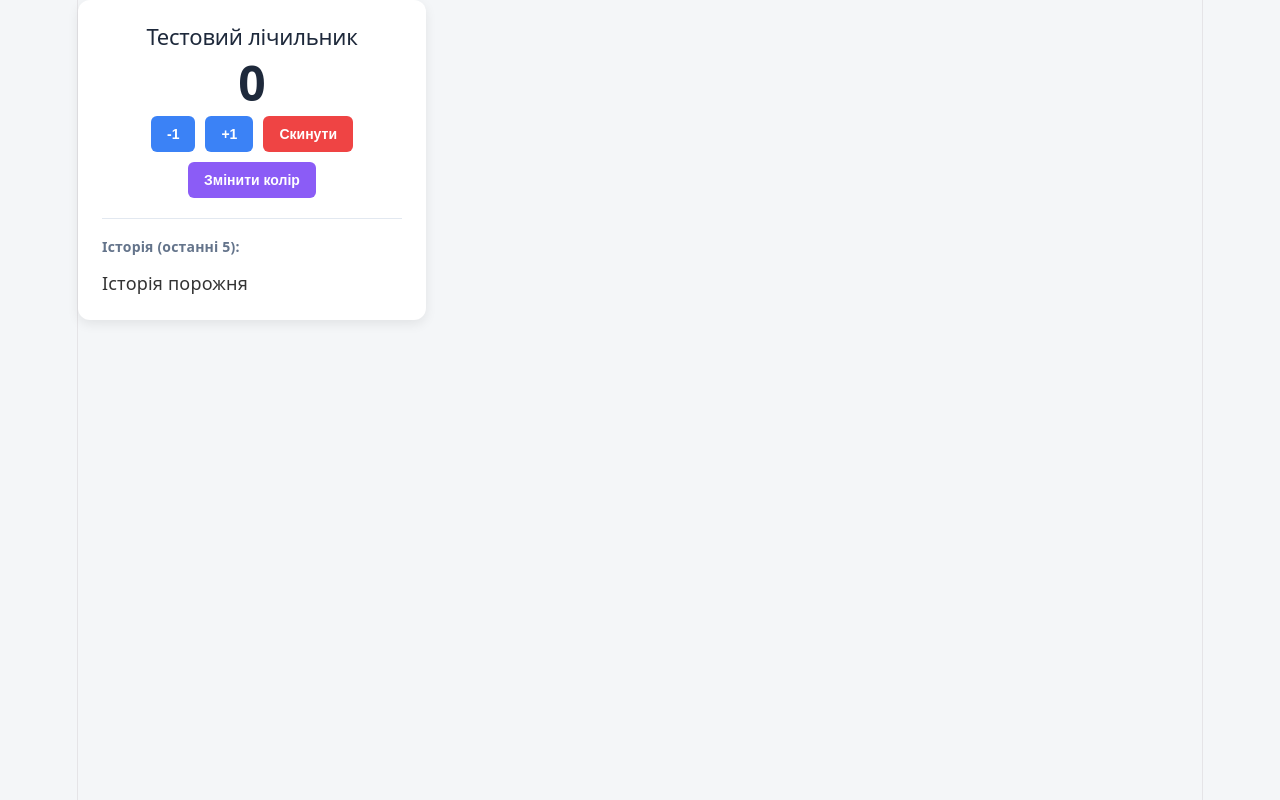
Counter Component › збільшення та зменшення значення лічильника
Click the button "+1": coordinates (229, 134) x1=205 y1=116 x2=253 y2=152
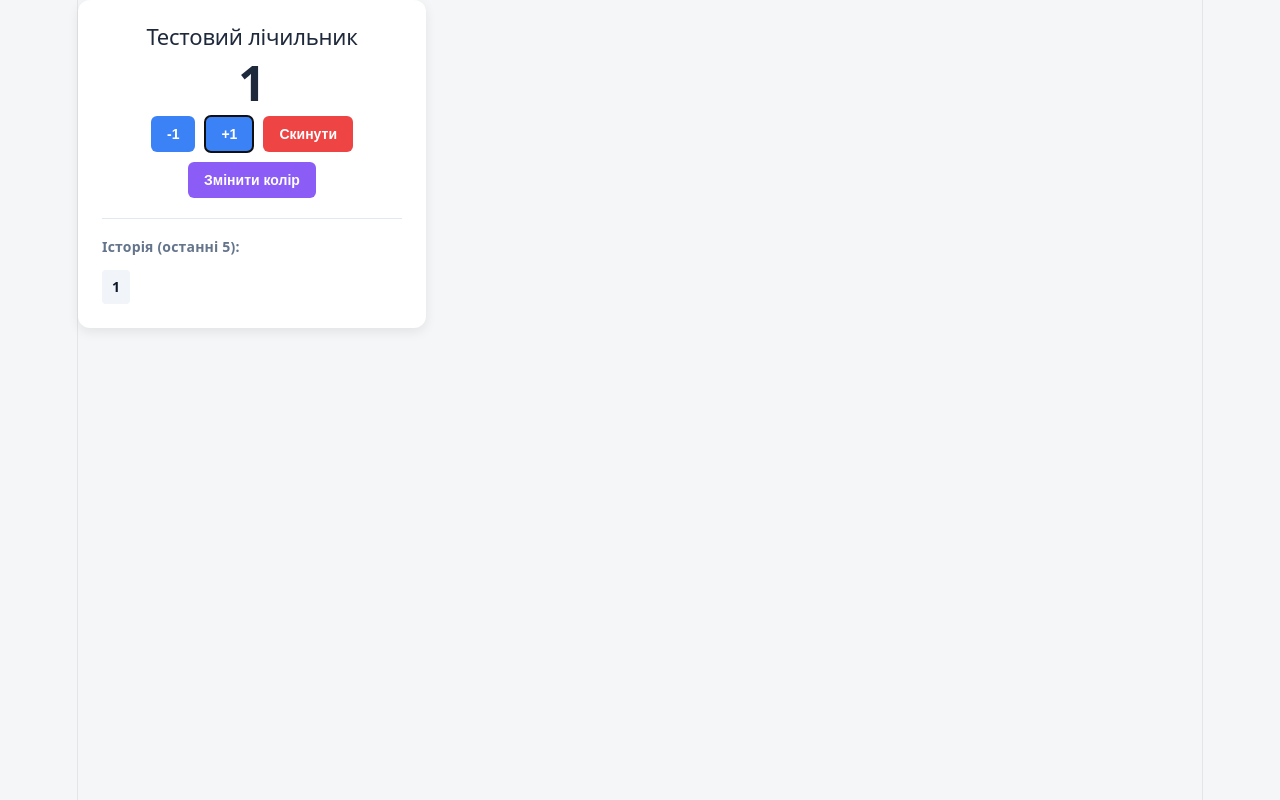
Expected: the text with class "count-display" reads "1", x1=238 y1=50 x2=266 y2=115
Click the button "+1": coordinates (229, 134) x1=205 y1=116 x2=253 y2=152
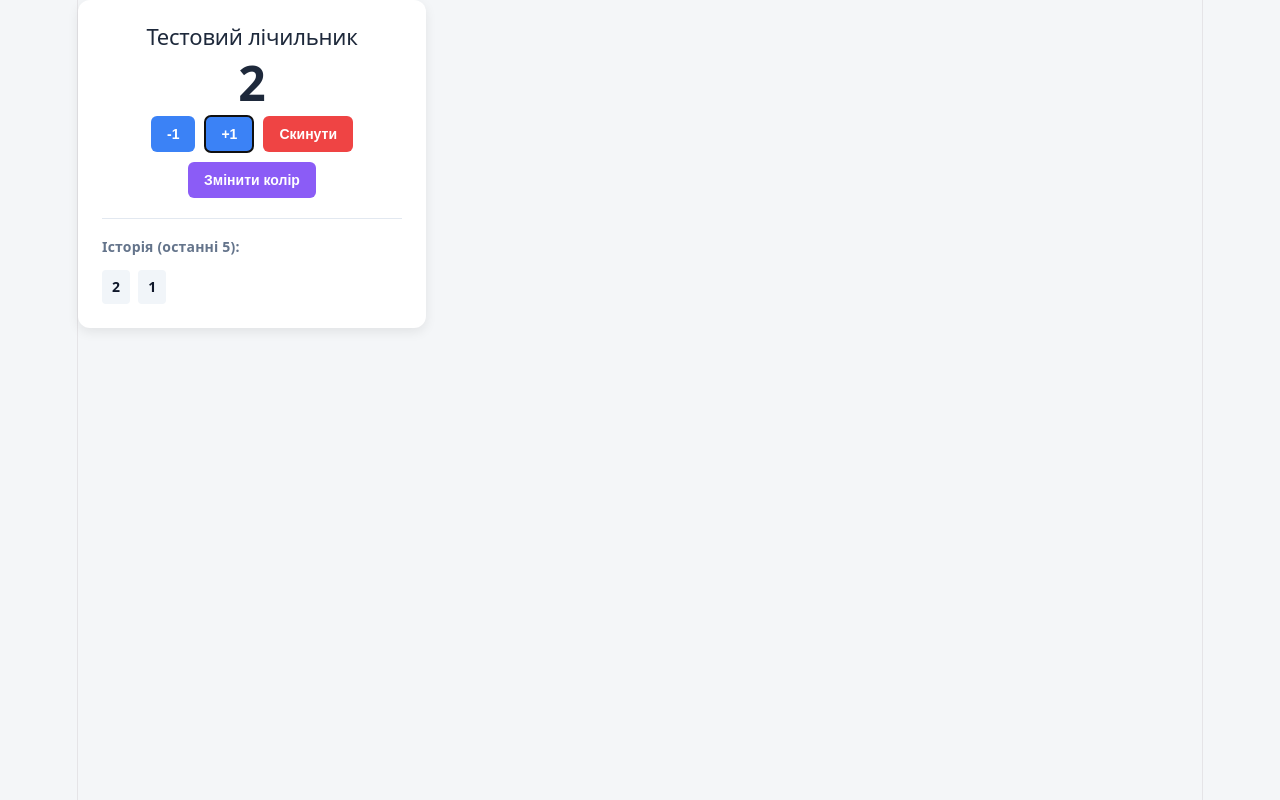
Expected: the text with class "count-display" reads "2", x1=238 y1=50 x2=266 y2=115
Click the button "-1": coordinates (173, 134) x1=151 y1=116 x2=196 y2=152
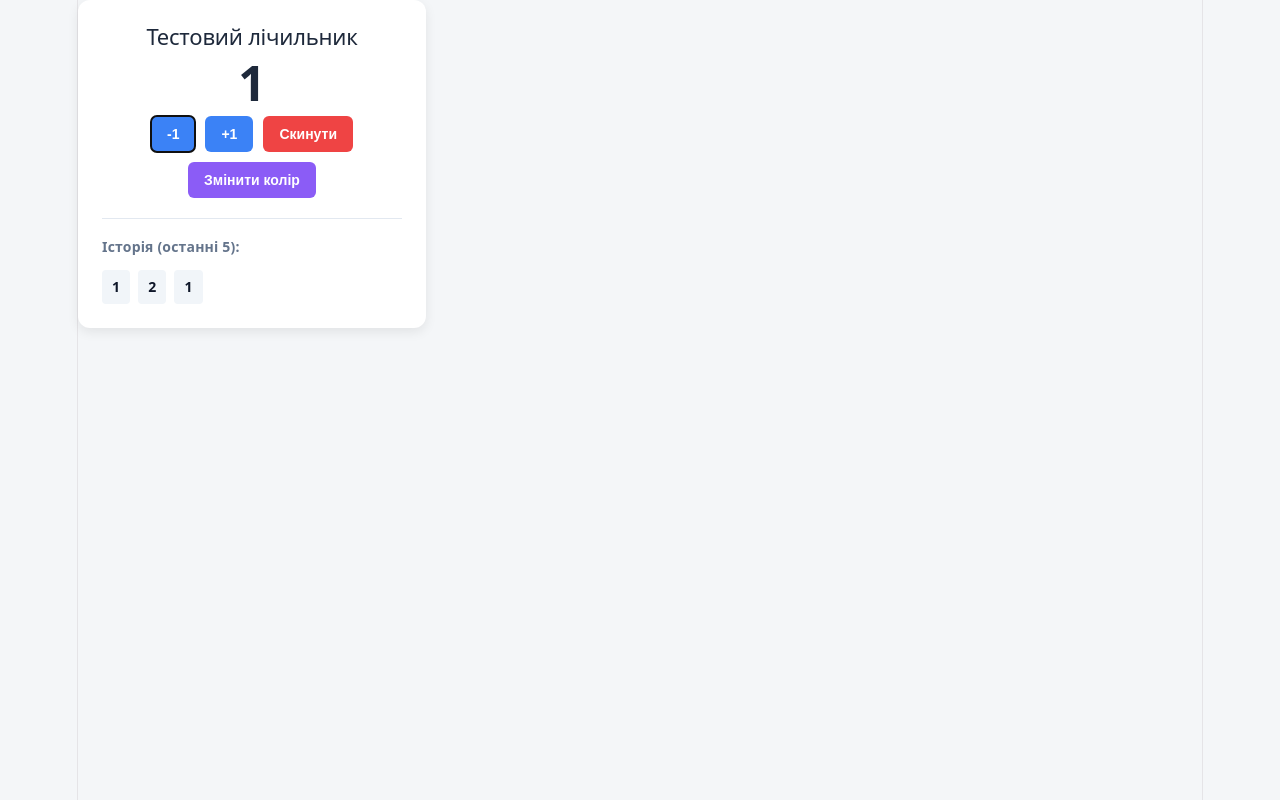
Expected: the text with class "count-display" reads "1", x1=238 y1=50 x2=266 y2=115
